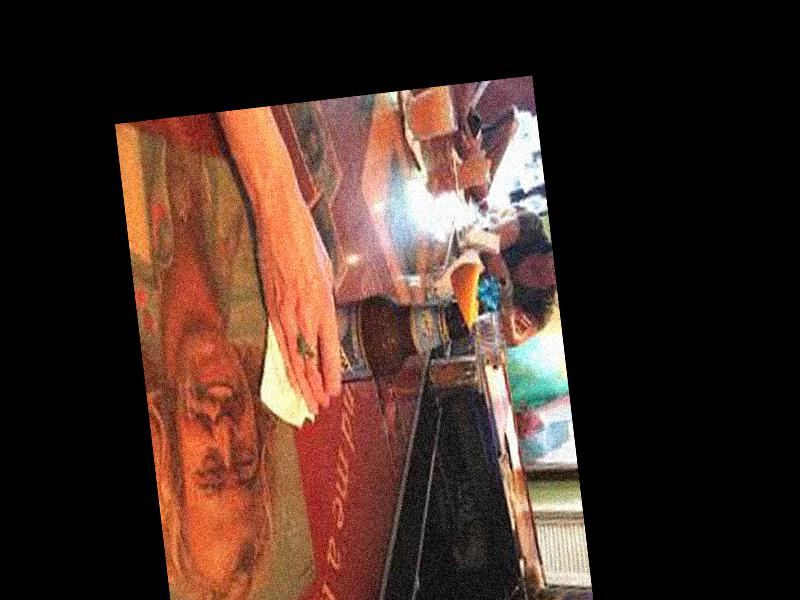Beer: (279, 290, 477, 393)
